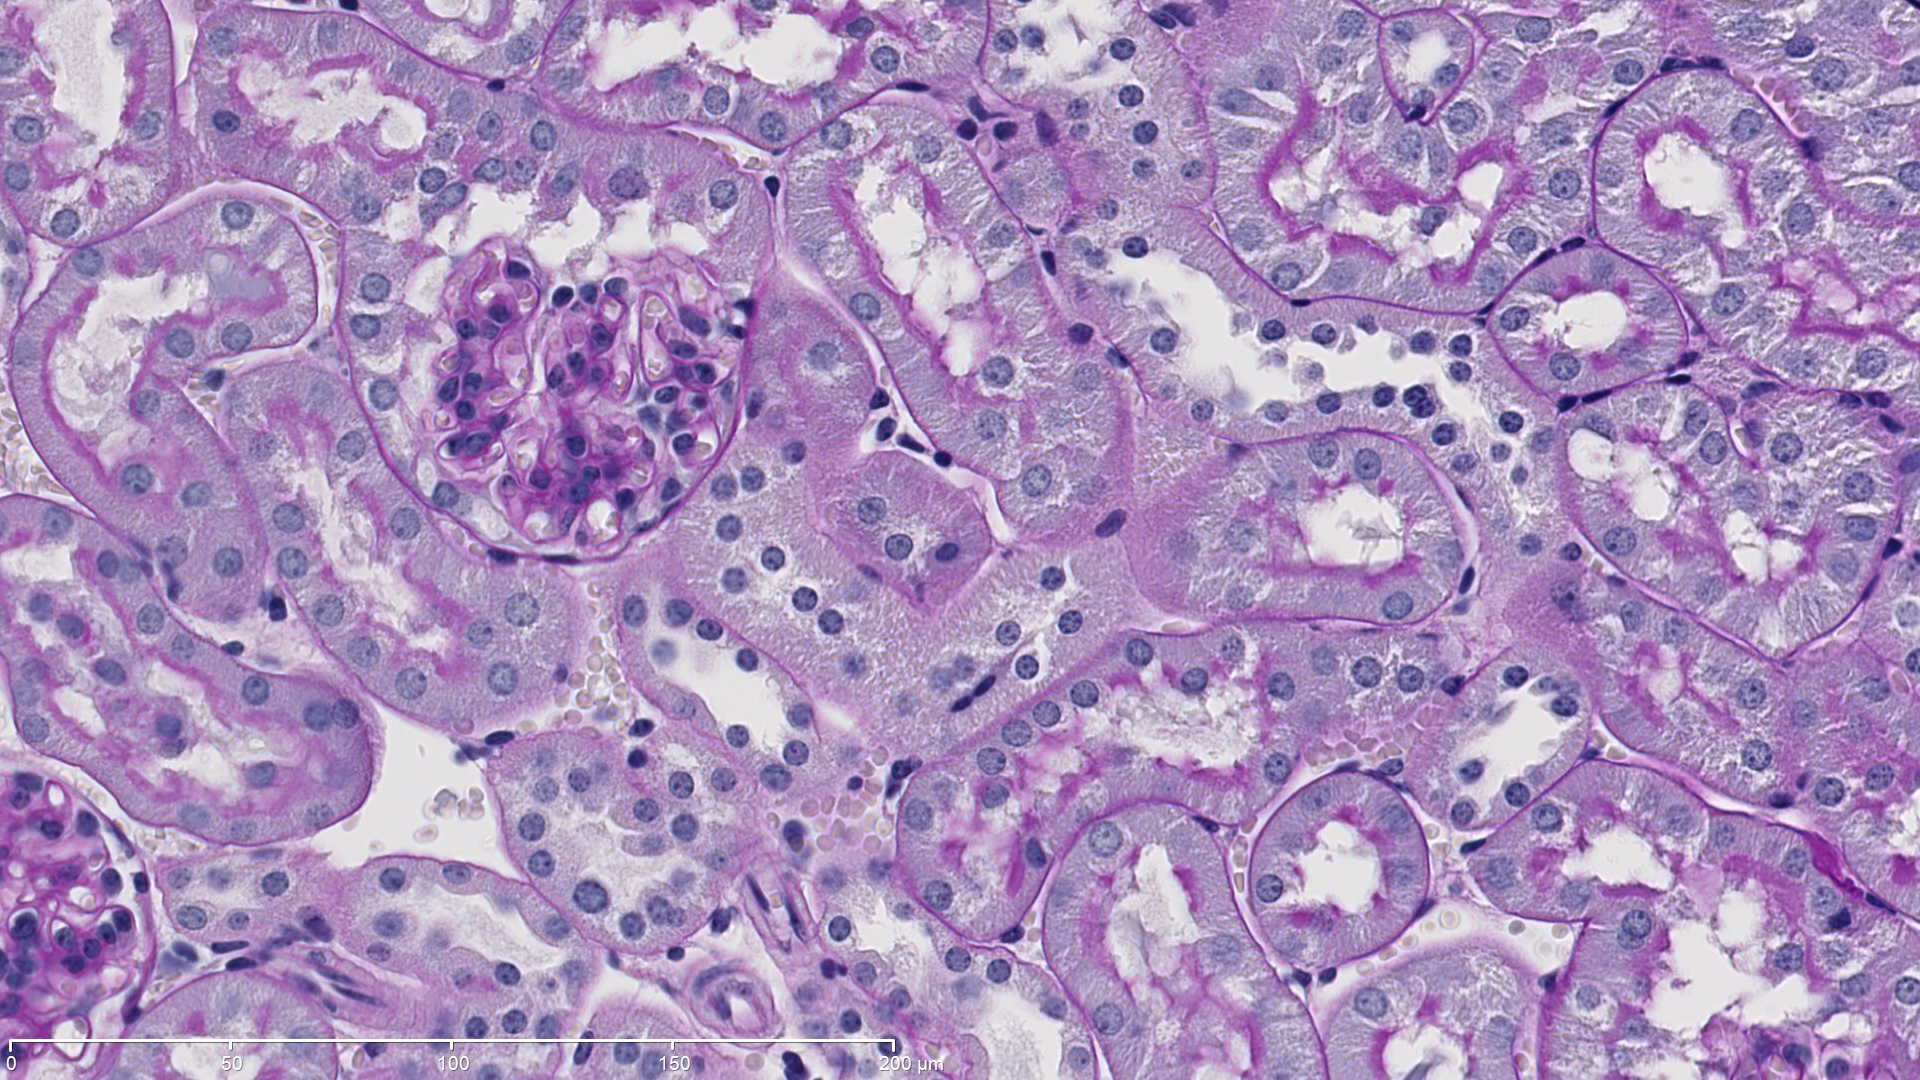Glomeruli: (426, 236, 760, 541), (1, 761, 157, 1059)
